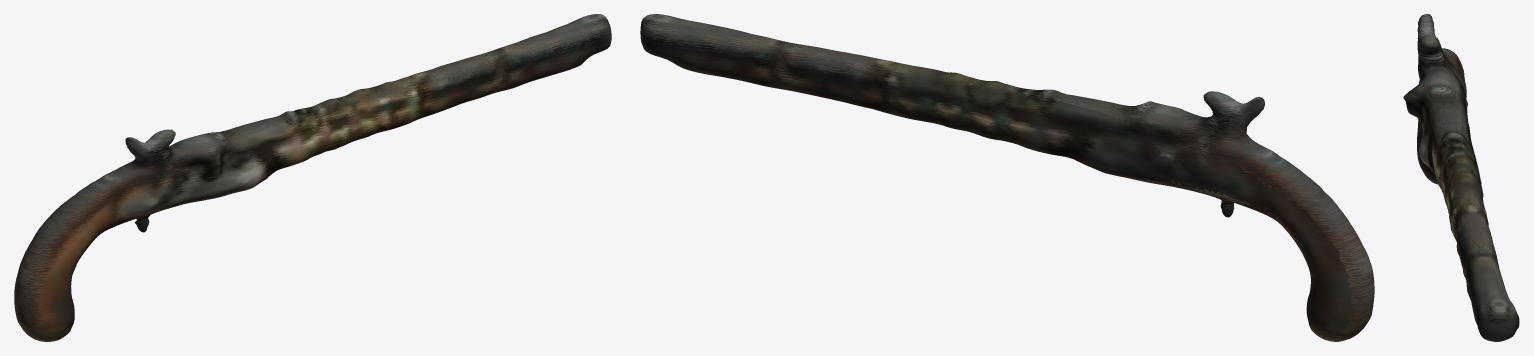
The model's file is kfl-2248.glb.
The picture shows the model from 3 angles, left to right: view 1: azimuth 30°, elevation 25°; view 2: azimuth 150°, elevation 25°; view 3: azimuth 270°, elevation 25°; orthographic projection. The views are drawn at different scales.
Parts seen in each view (by area): view 1: geometry_0; view 2: geometry_0; view 3: geometry_0.
Boxes of the visible parts, x1,y1,x2,y2 form: geometry_0: (14, 14, 611, 341); geometry_0: (640, 14, 1374, 341); geometry_0: (1403, 14, 1519, 341).
Bounding box in the file's own units: 0.9949 × 0.2921 × 0.1492.
Materials: 1 (1 with a texture image).
